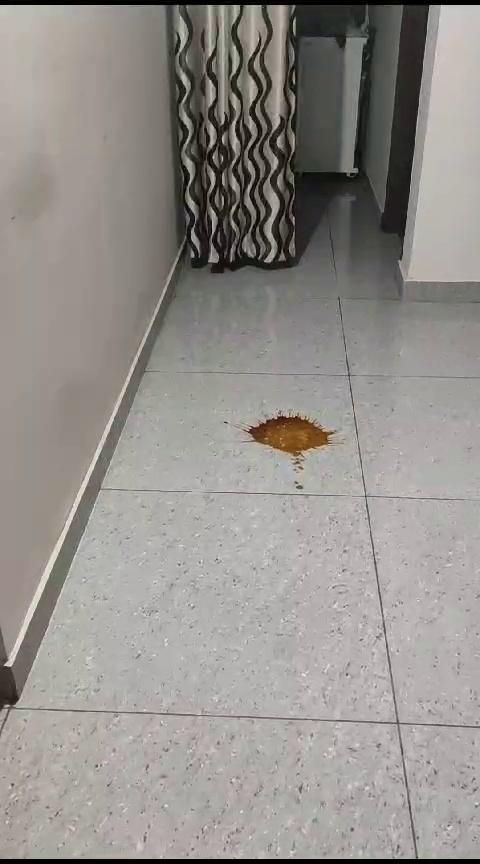dirty_floor: (222, 400, 350, 494)
